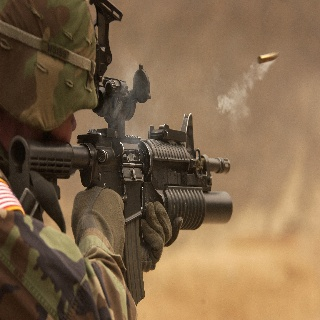rifle: (7, 63, 239, 300)
